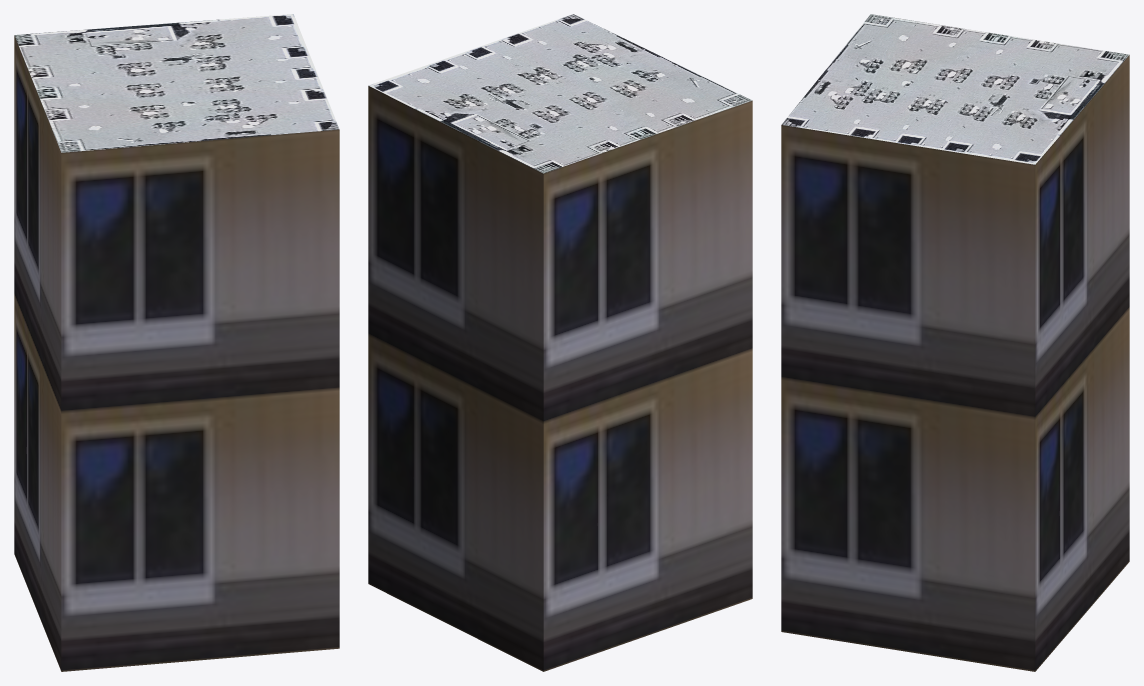
The model's file is ResTex__383.fbx.
The picture shows the model from 3 angles, left to right: view 1: azimuth 30°, elevation 25°; view 2: azimuth 150°, elevation 25°; view 3: azimuth 270°, elevation 25°; orthographic projection. The views are drawn at different scales.
Parts seen in each view (by area): view 1: CityEngineMaterial_5_m, CityEngineMaterial_m; view 2: CityEngineMaterial_5_m, CityEngineMaterial_m; view 3: CityEngineMaterial_5_m, CityEngineMaterial_m.
Part boxes in pixels (box(x1,y1,x2,y2)): CityEngineMaterial_5_m: box(14, 35, 339, 671); CityEngineMaterial_m: box(14, 14, 339, 152); CityEngineMaterial_5_m: box(368, 86, 752, 671); CityEngineMaterial_m: box(368, 14, 752, 173); CityEngineMaterial_5_m: box(781, 55, 1129, 671); CityEngineMaterial_m: box(781, 14, 1128, 164).
Size of the model in its own units: 3.83 by 6 by 3.73.
Materials: 2 (2 with a texture image).
